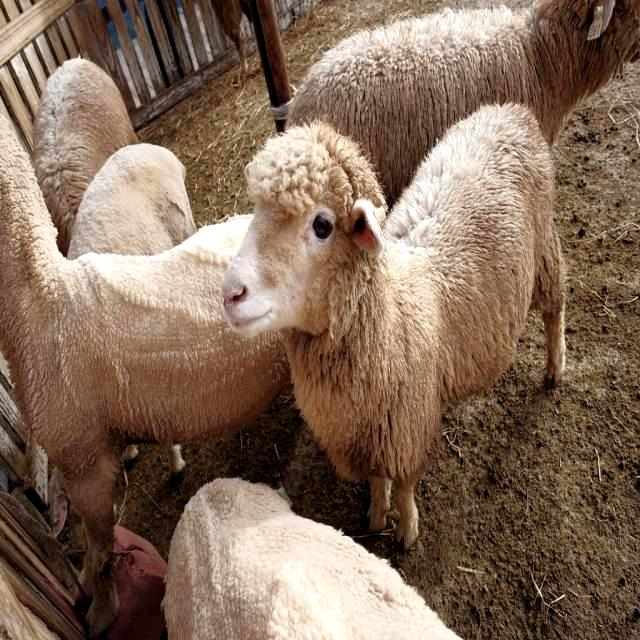sheep: (223, 116, 570, 539), (0, 112, 277, 571), (273, 0, 639, 209), (32, 54, 138, 254), (65, 144, 197, 260), (213, 0, 248, 72)
